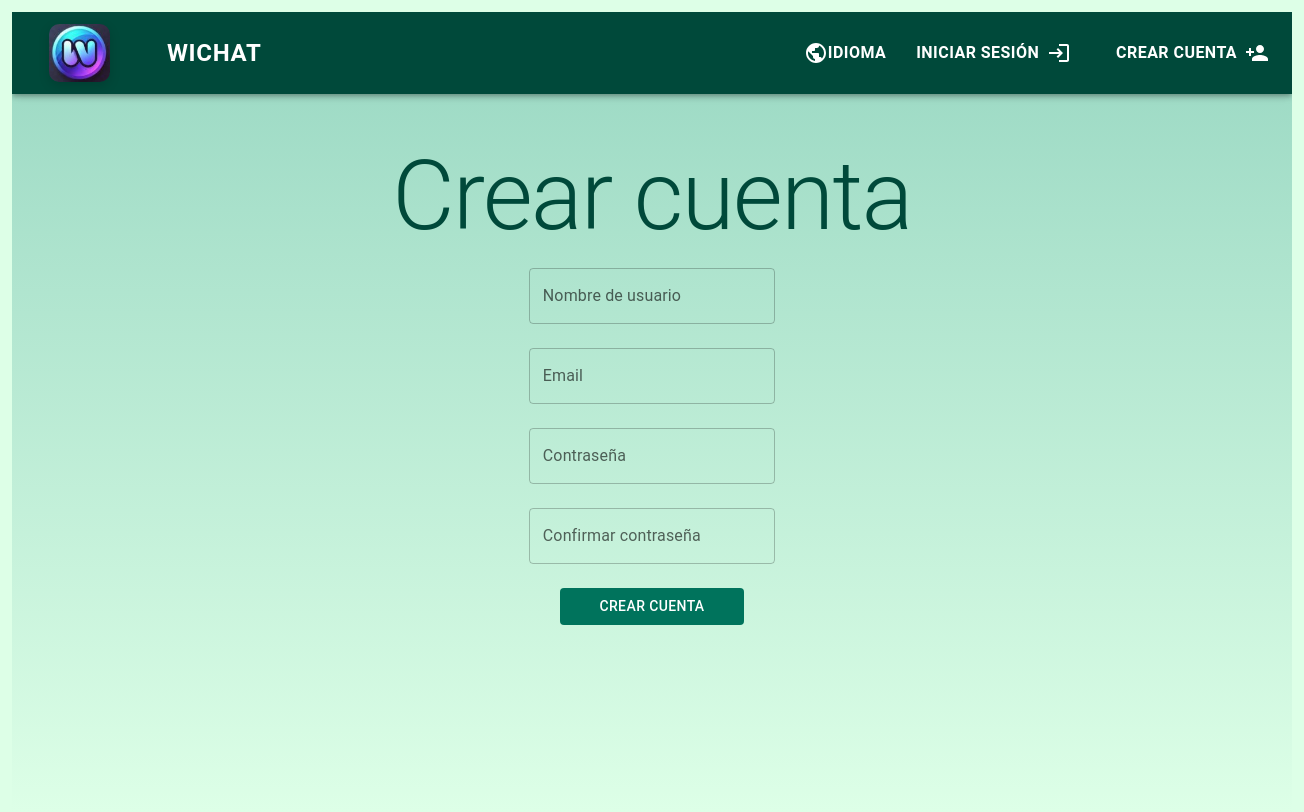
Test: AddUser component › should show error if email is already used
The image size is (1304, 812).
Type "newuser" into the field with test id "username-input" at (652, 296), box [529,268,775,324]
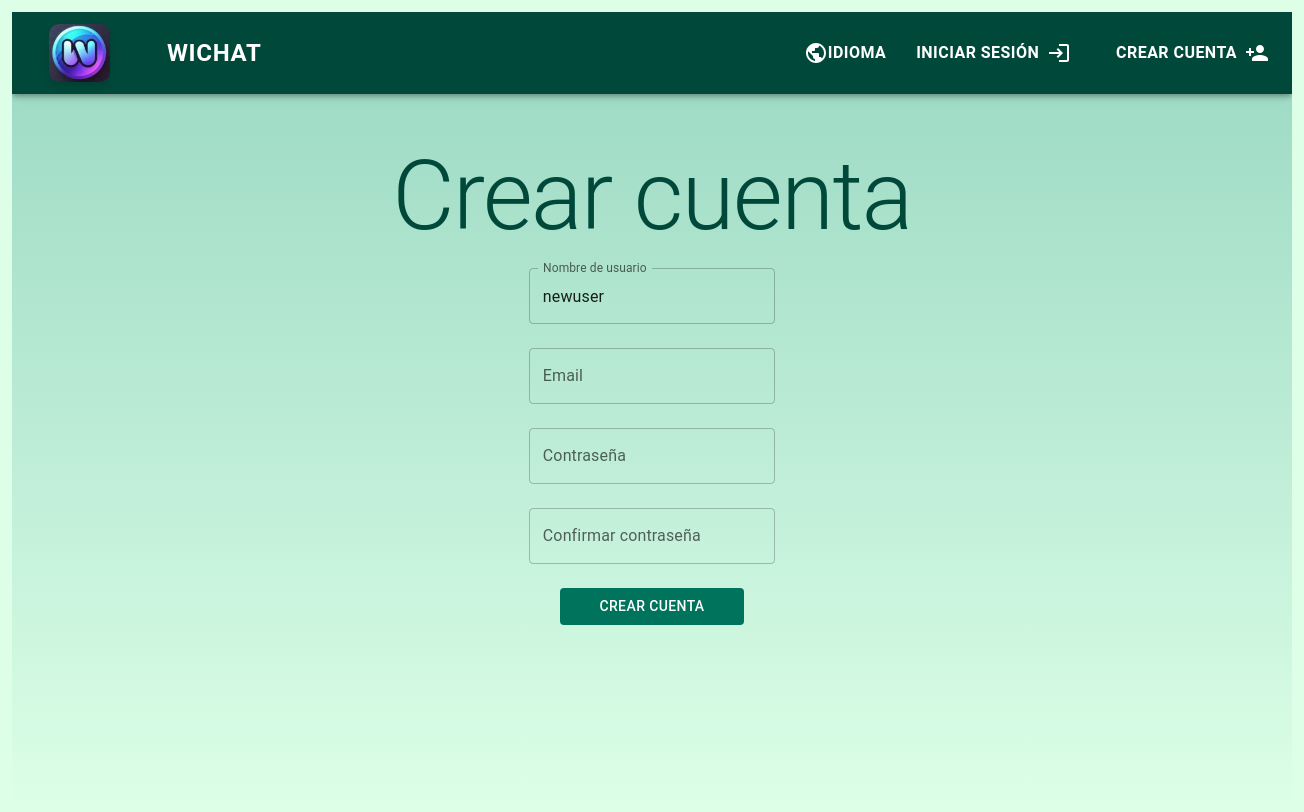
Type "usedemail@example.com" into the field with test id "email-input" at (652, 376), box [529,348,775,404]
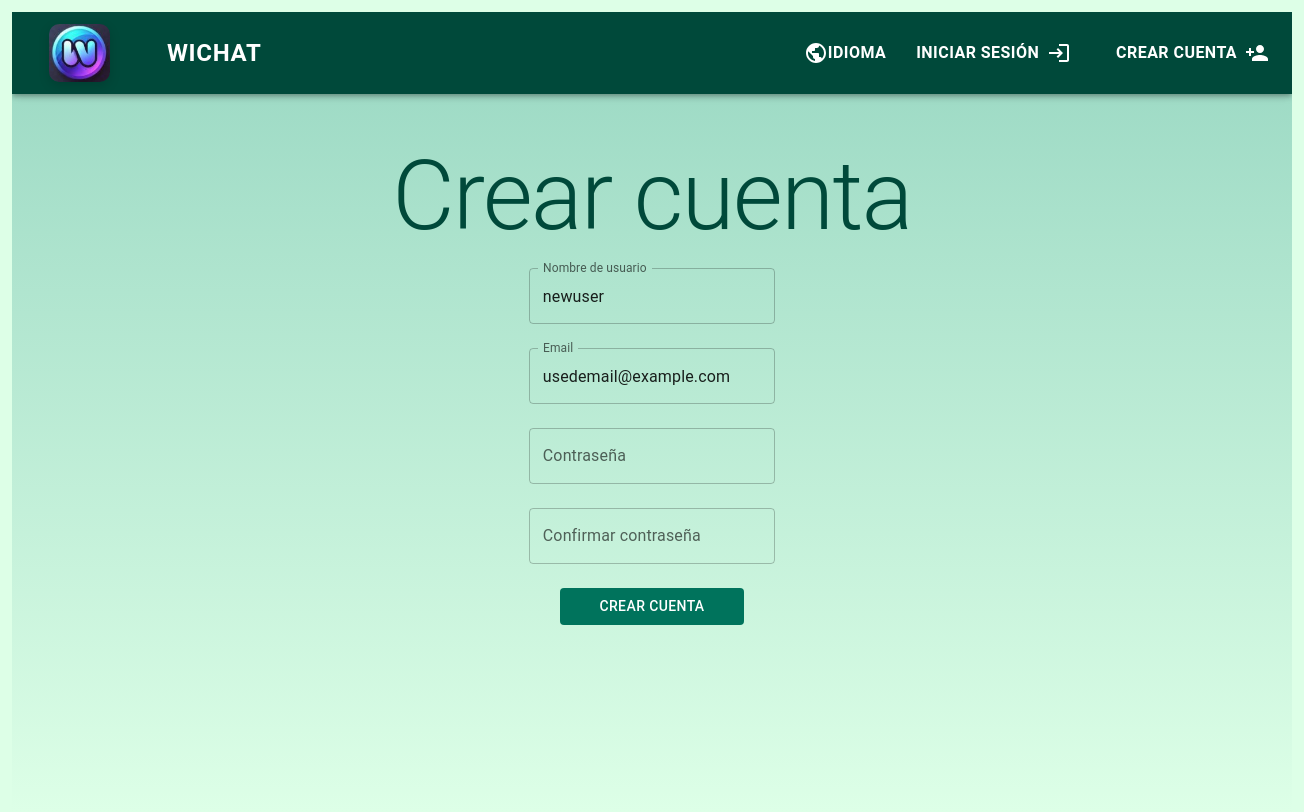
Type "Testpass1" into the password field with test id "password-input" at (652, 456), box [529,428,775,484]
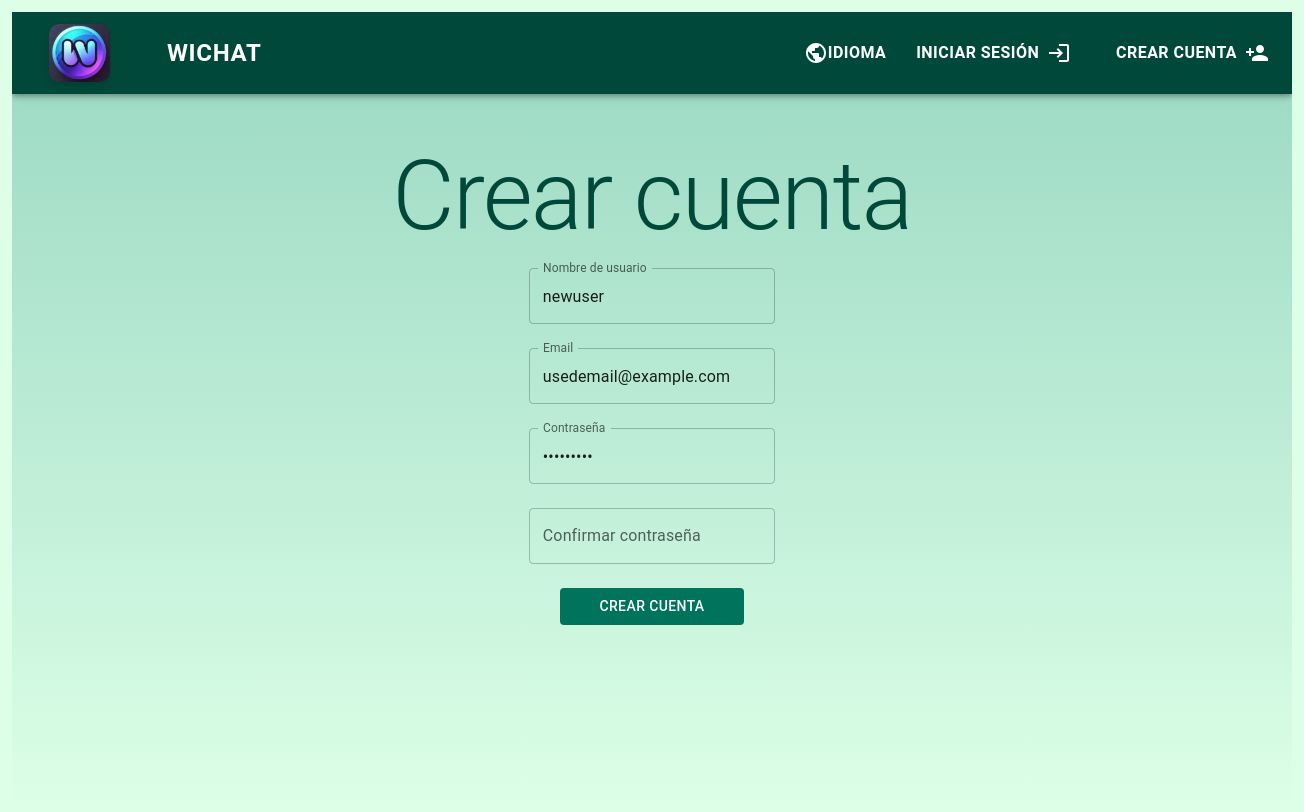
Type "Testpass1" into the password field with test id "confirm-password-input" at (652, 536), box [529,508,775,564]
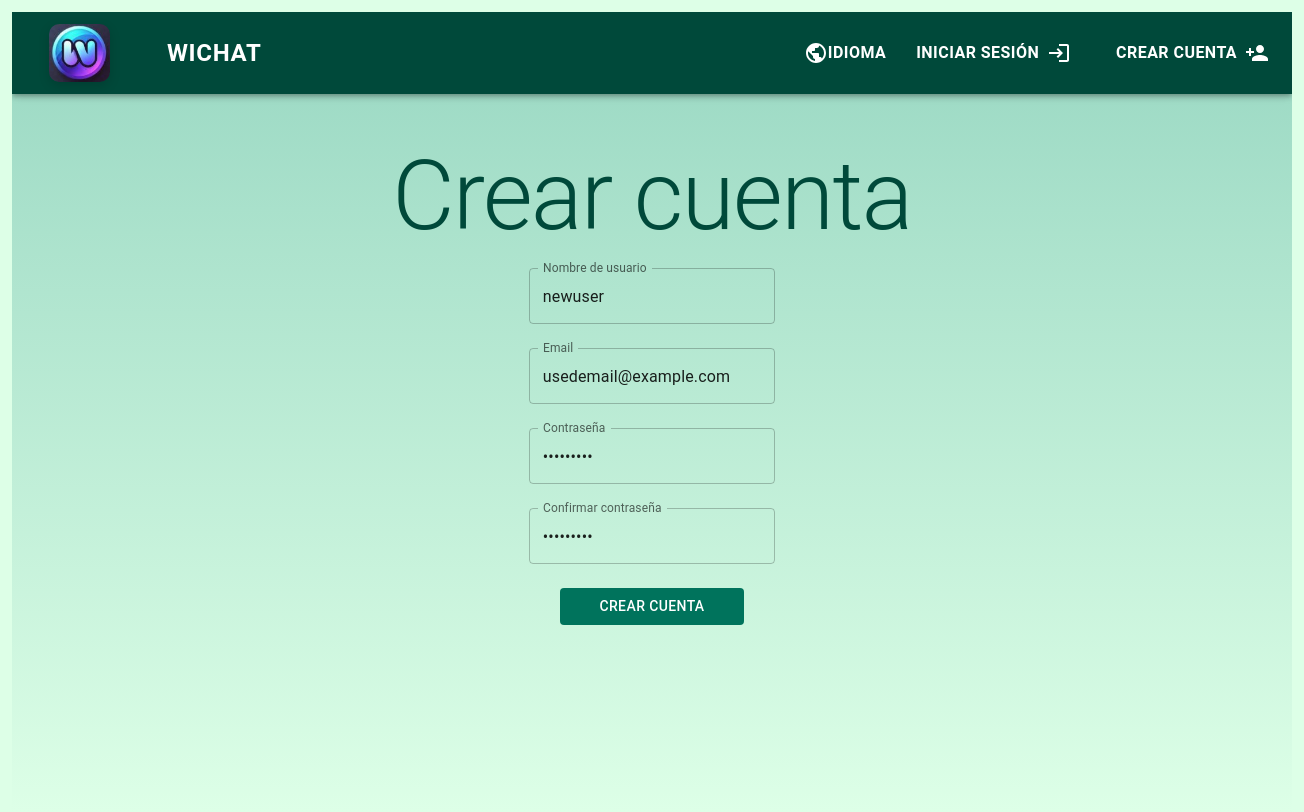
Click the button with test id "signup-button" at (652, 606), box [560,588,744,624]
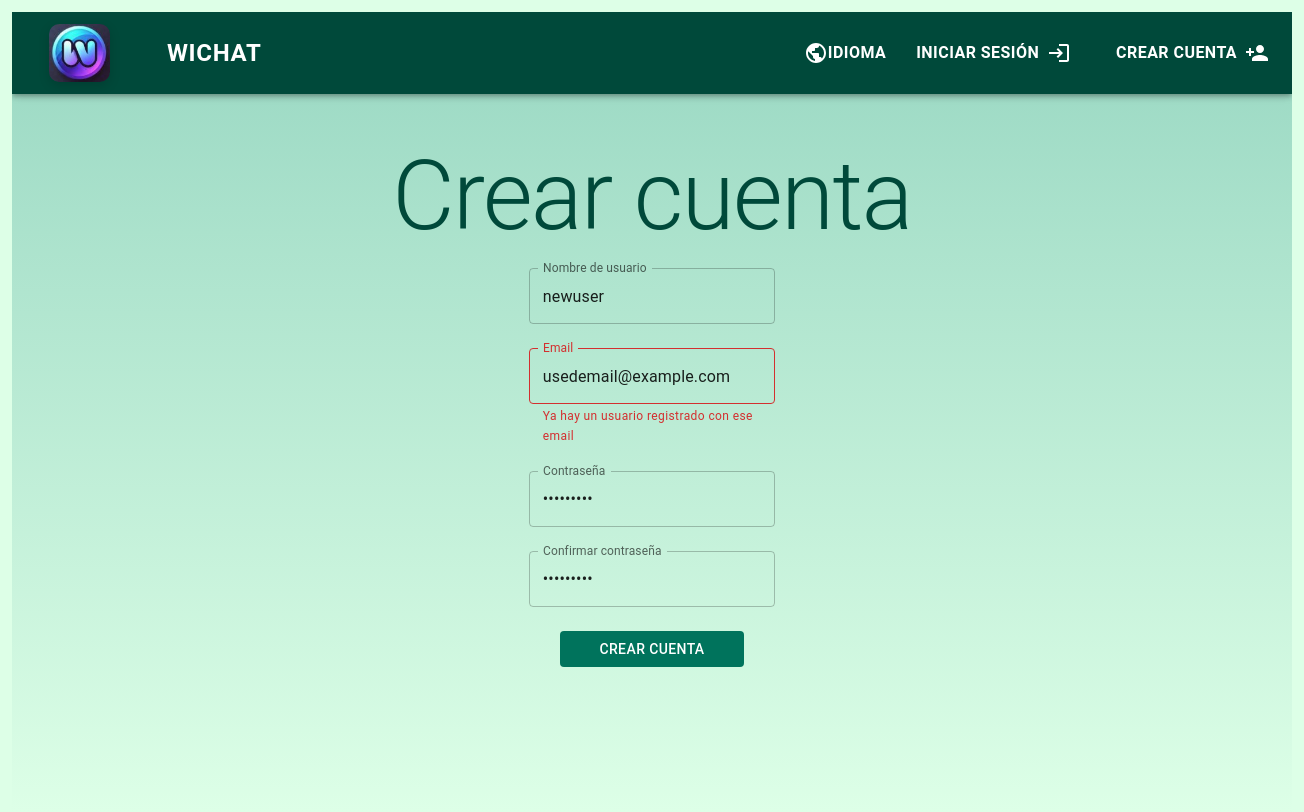
Result: the text "Ya hay un usuario registrado con ese email" is shown at [543,407,761,447]
